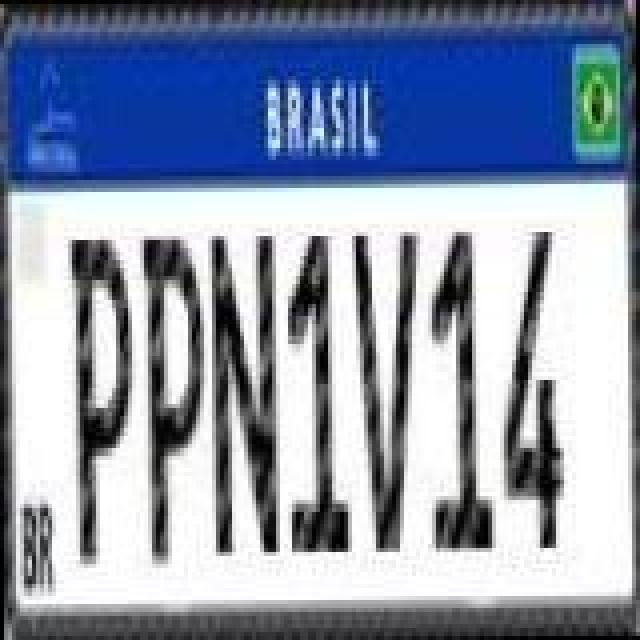1: (282, 224, 354, 560), (426, 218, 498, 554)
4: (496, 216, 564, 552)
N: (210, 232, 282, 556)
P: (142, 226, 214, 562), (72, 232, 140, 576)
V: (354, 222, 426, 558)
